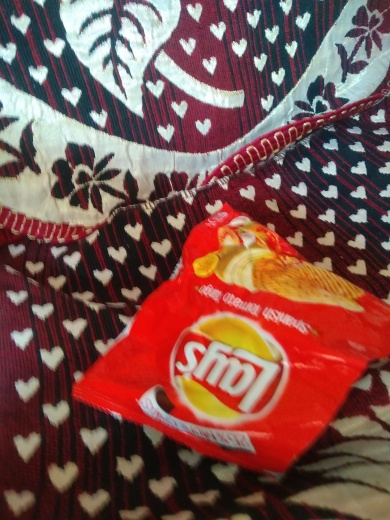lays: (82, 200, 390, 478)
